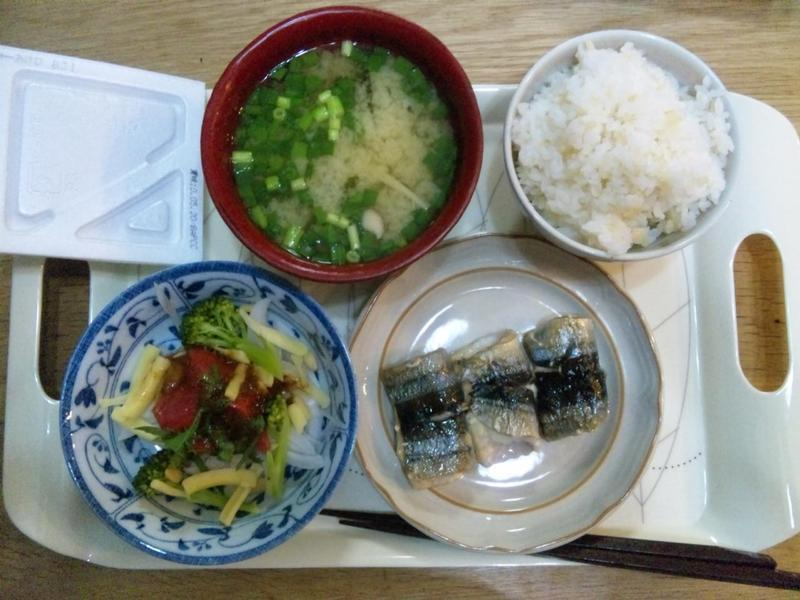rice: (512, 42, 732, 254)
